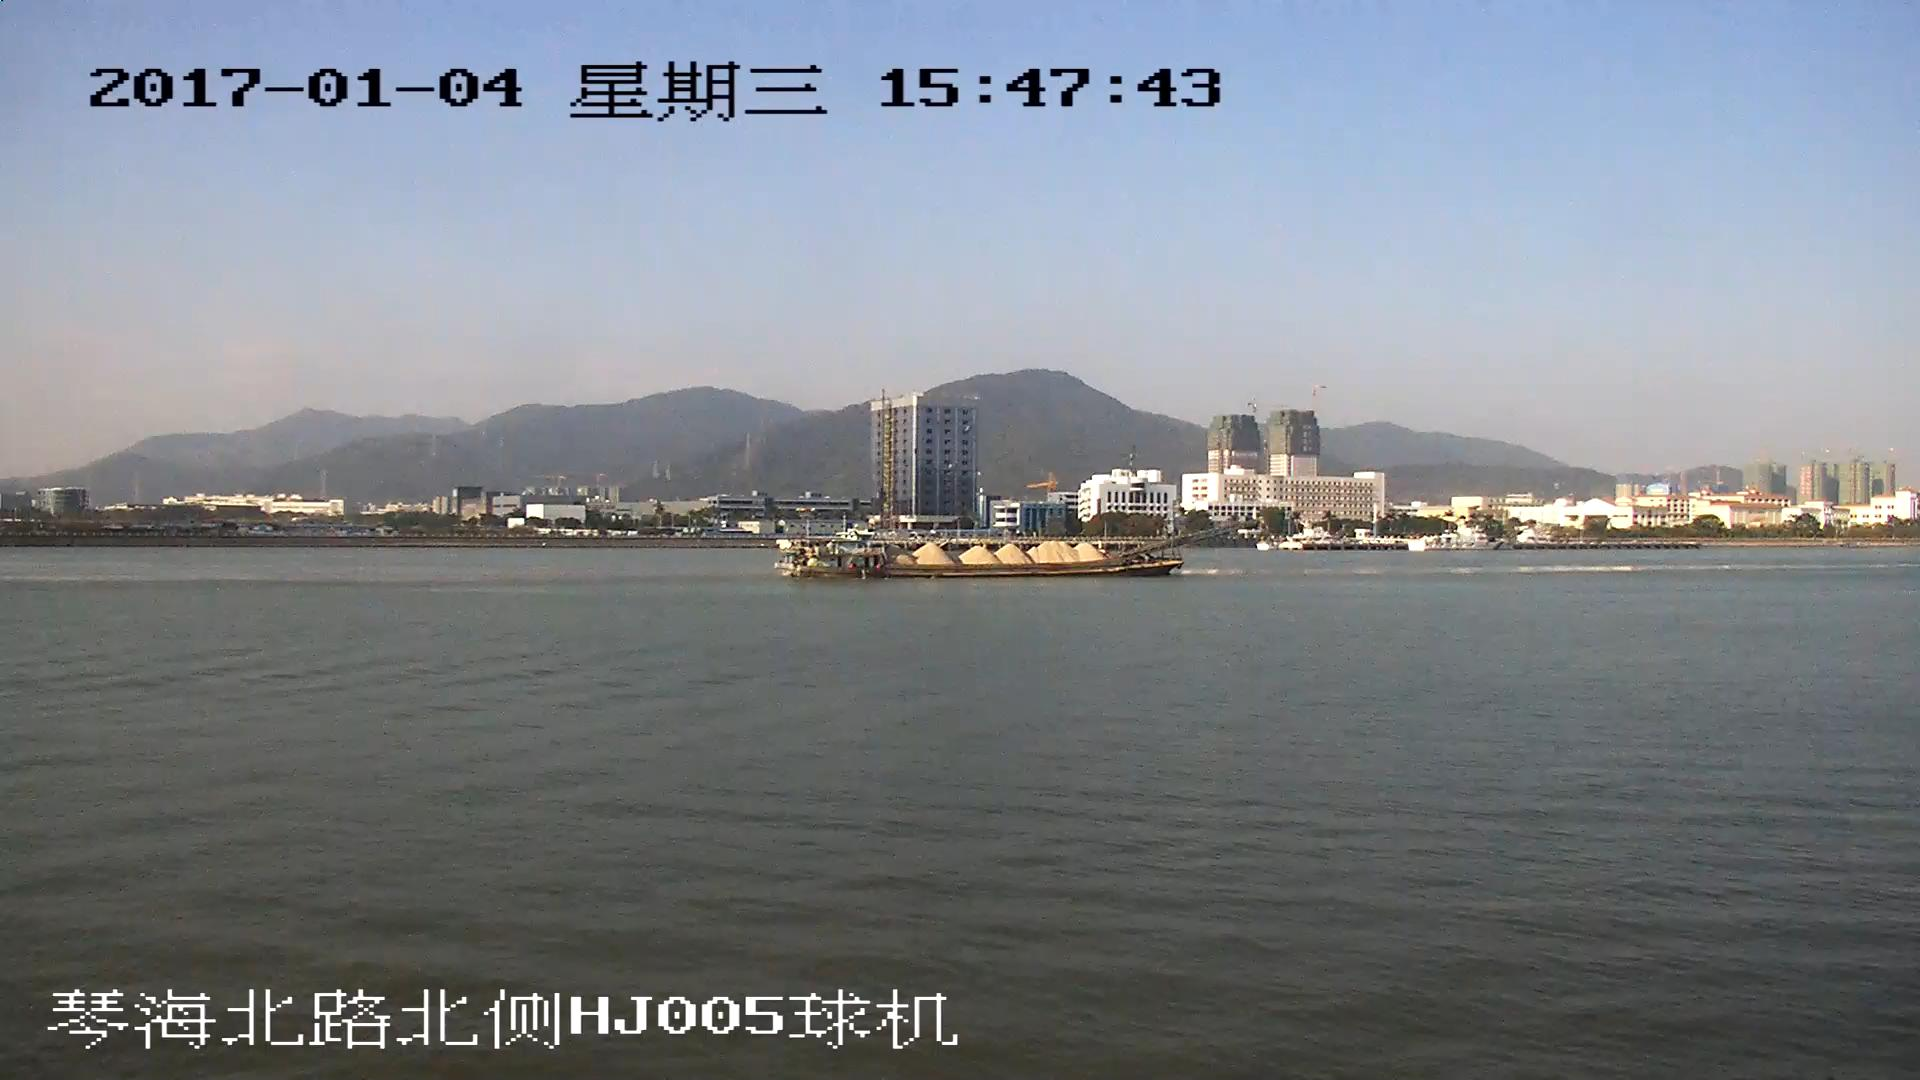ore carrier: (781, 519, 1236, 579)
